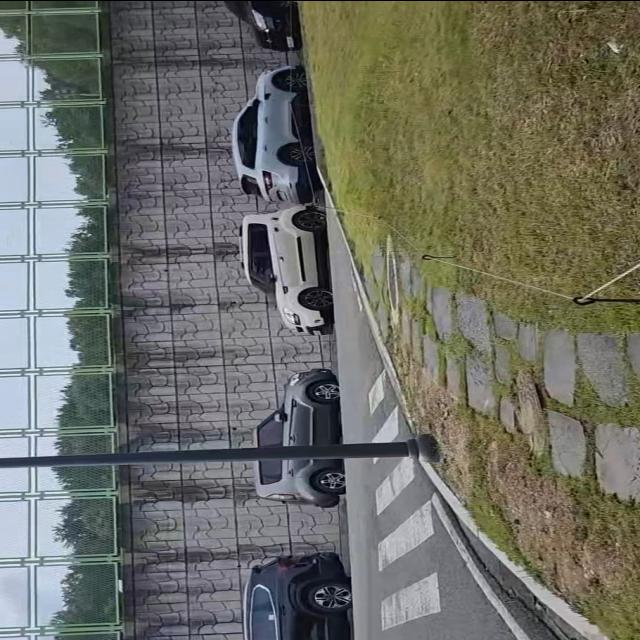obstacle: (0, 432, 439, 470), (233, 549, 365, 640), (217, 0, 312, 54), (565, 291, 640, 308)
road: (324, 177, 604, 640)
sidewalk: (356, 241, 640, 494)
